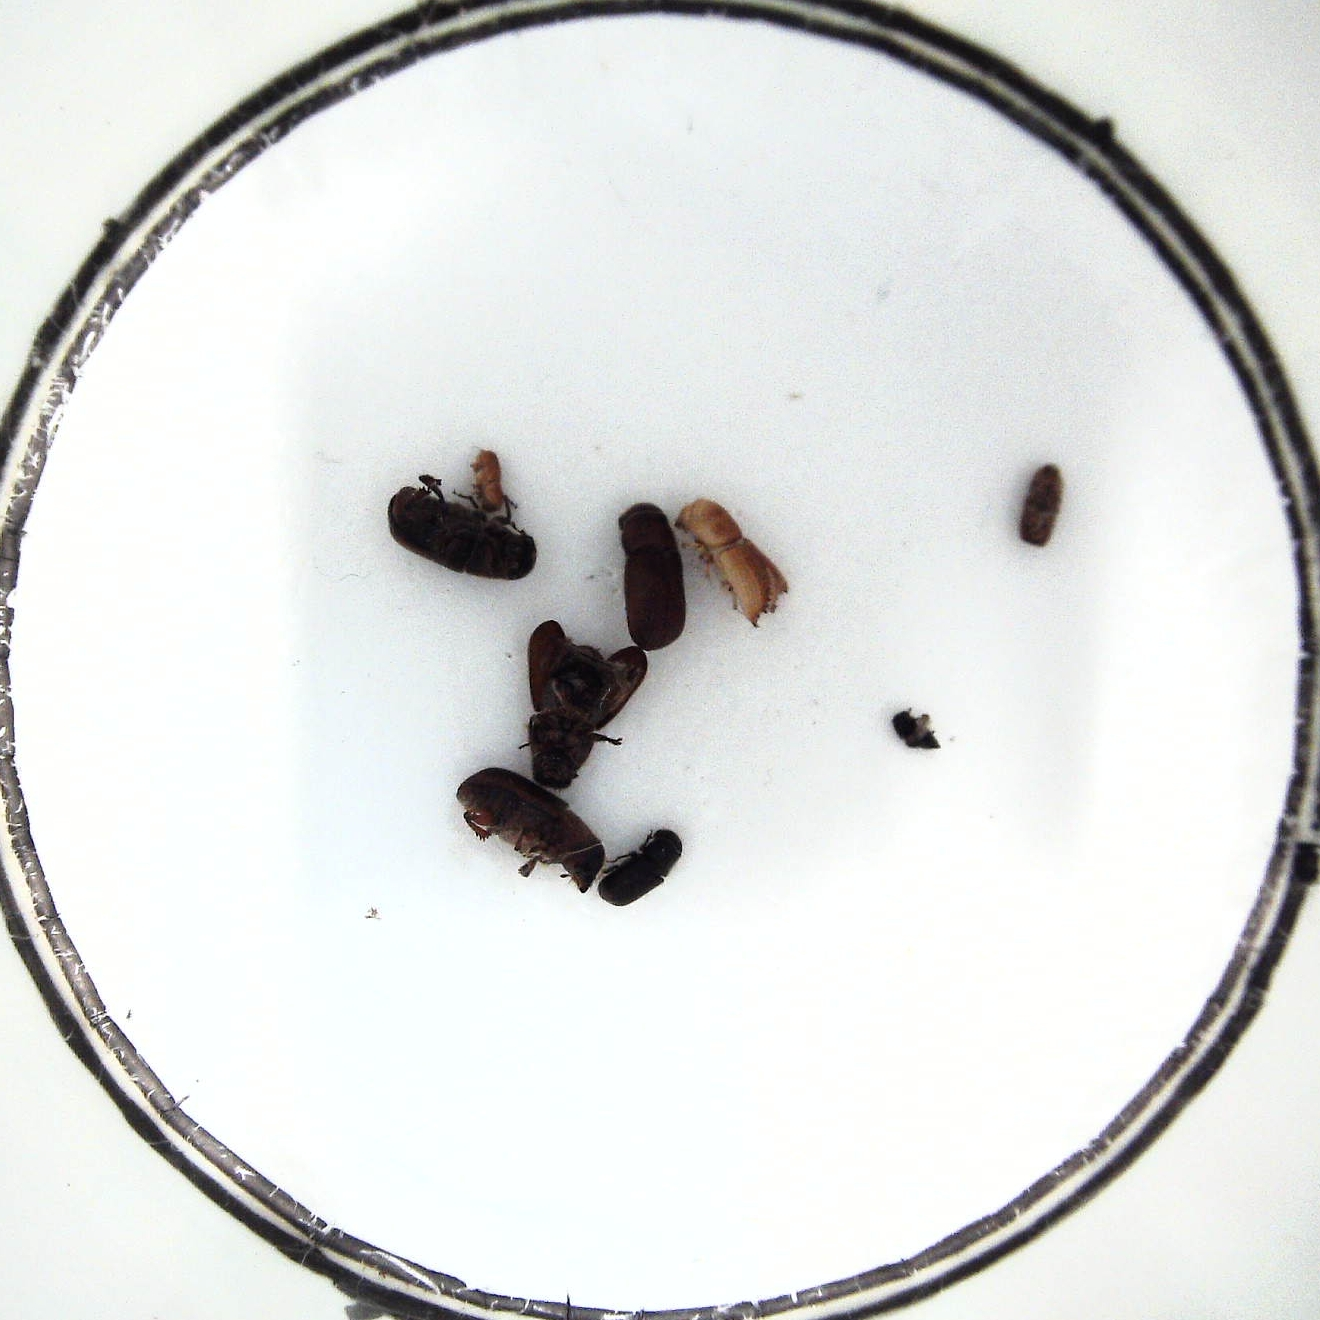Boerner: (677, 492, 791, 626)
Leconte: (523, 623, 650, 792), (456, 768, 601, 895), (383, 479, 538, 581), (614, 499, 691, 653)
Linnaeus: (1017, 459, 1066, 551)
acuminatus: (467, 448, 513, 513)
armandi: (597, 827, 687, 910)
coleoptera: (895, 707, 943, 762)
